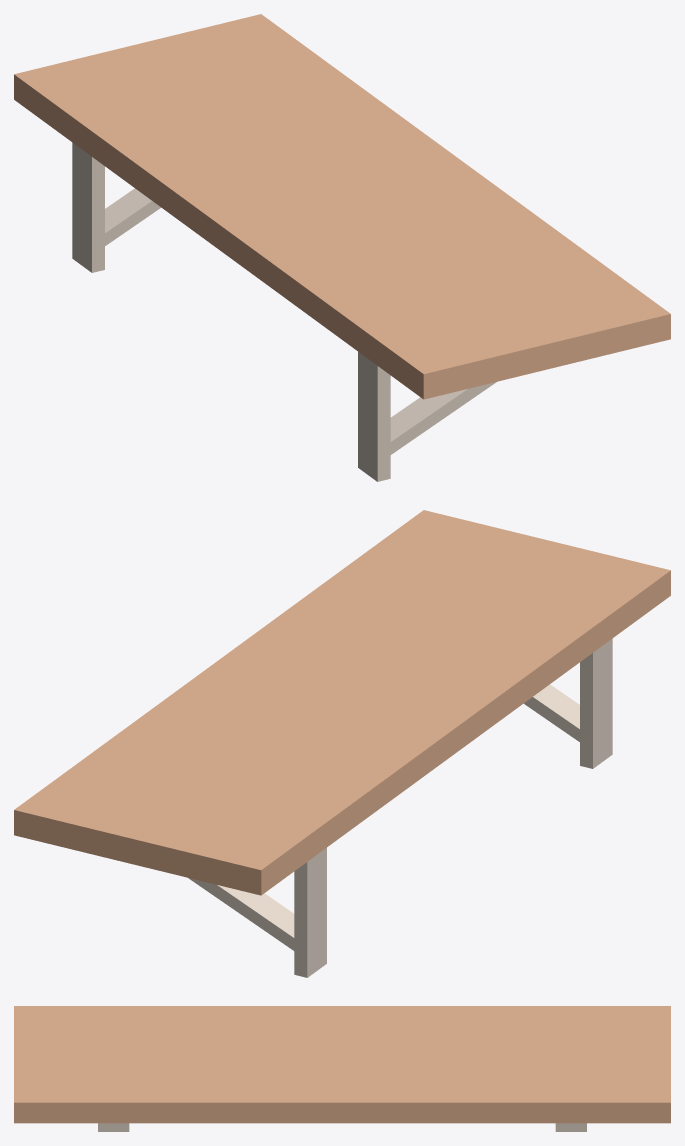
File: Wall Shelf.glb
The picture shows the model from 3 angles, top to bottom: view 1: azimuth 30°, elevation 25°; view 2: azimuth 150°, elevation 25°; view 3: azimuth 270°, elevation 25°; orthographic projection. The views are drawn at different scales.
Parts seen in each view (by area): view 1: Cube; view 2: Cube; view 3: Cube.
Part boxes in pixels (x1,y1,x2,y2): Cube: [14, 14, 670, 481]; Cube: [14, 510, 670, 977]; Cube: [14, 1006, 670, 1131].
Size of the model in its own units: 0.8 by 0.4562 by 2.3.
